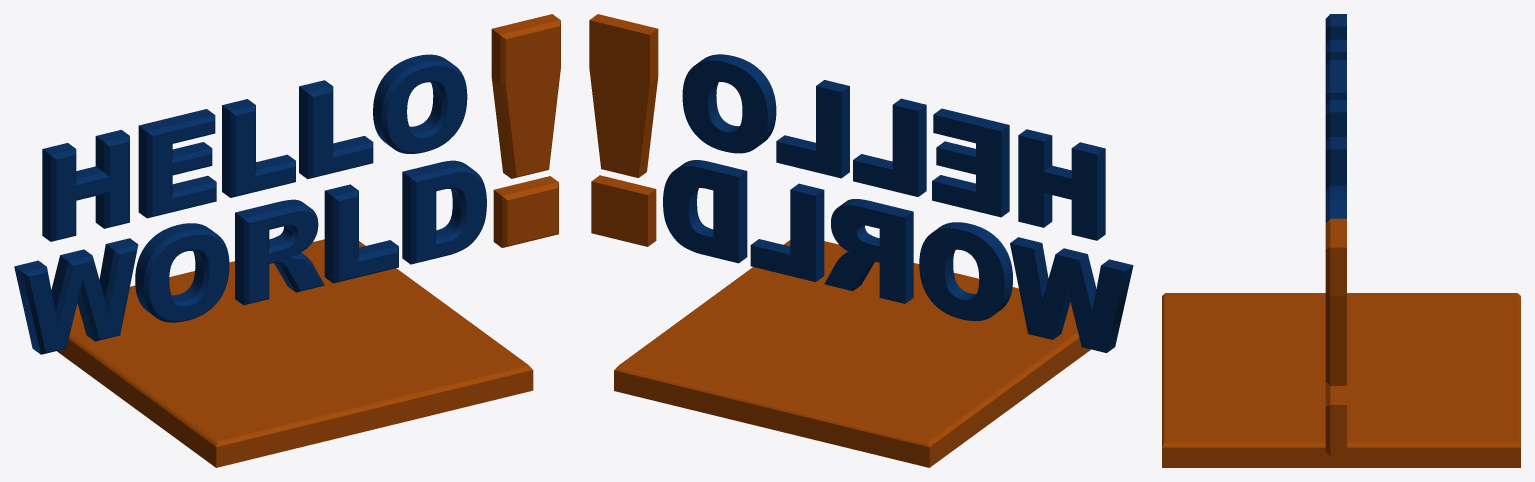
Rendered from hello.obj.
The picture shows the model from 3 angles, left to right: view 1: azimuth 30°, elevation 25°; view 2: azimuth 150°, elevation 25°; view 3: azimuth 270°, elevation 25°; orthographic projection.
Parts seen in each view (by area): view 1: hello; view 2: hello; view 3: hello.
Part boxes in pixels (x1=…): hello: x1=14, y1=14, x2=560, y2=467; hello: x1=589, y1=14, x2=1133, y2=467; hello: x1=1162, y1=14, x2=1520, y2=467.
Size of the model in its own units: 2.59 by 1.29 by 1.53.
